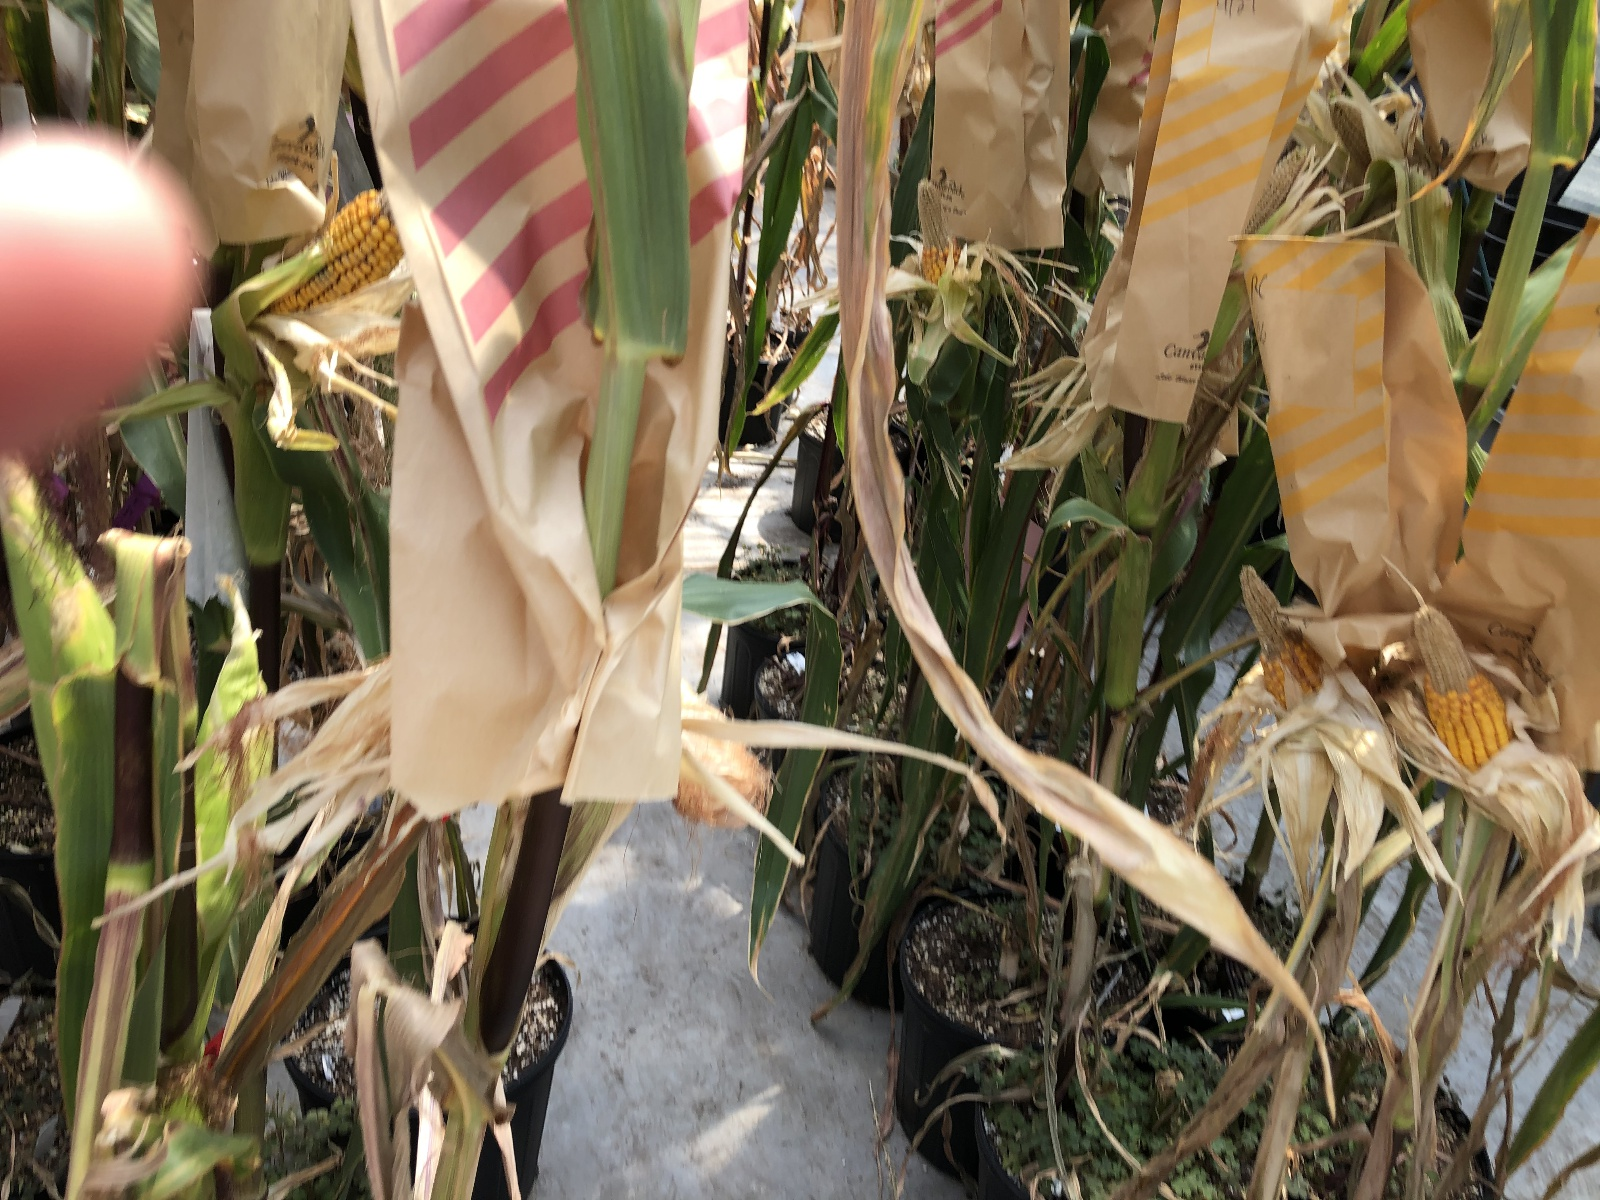ear: (1230, 557, 1372, 724), (1409, 596, 1529, 770), (266, 175, 411, 315), (910, 171, 963, 292), (1242, 142, 1310, 234), (1330, 96, 1400, 176)
